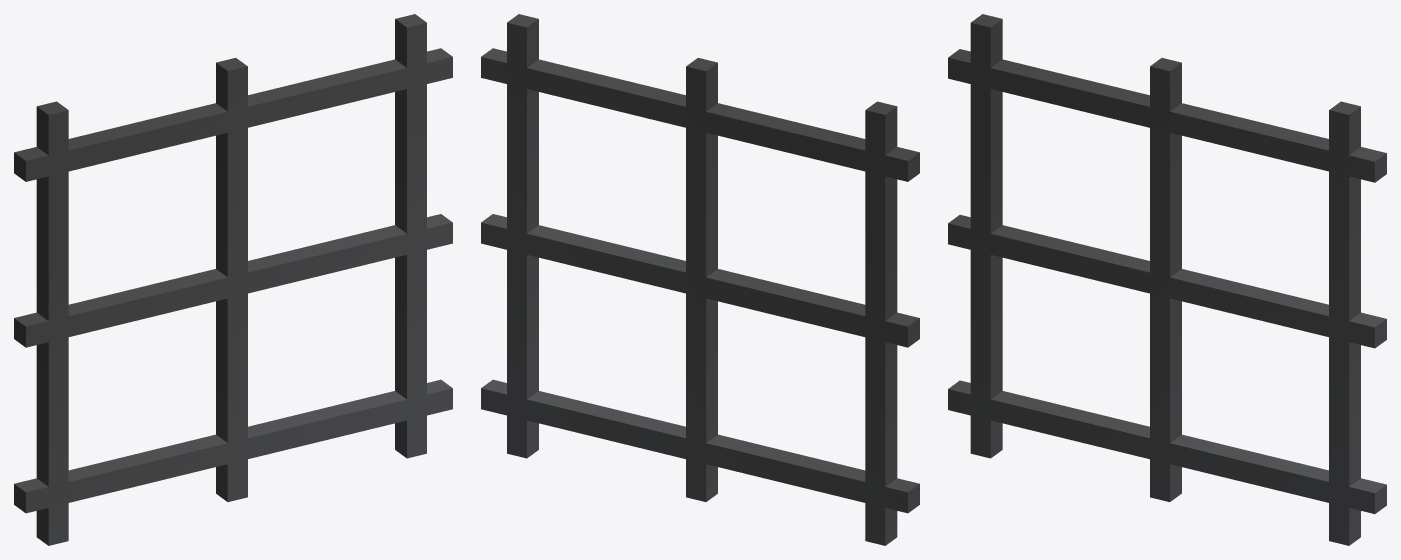
Rendered from POL0110022.fbx.
3 renders of one model, left to right at view 1: azimuth 30°, elevation 25°; view 2: azimuth 150°, elevation 25°; view 3: azimuth 330°, elevation 25°, orthographic.
Parts seen in each view (by area): view 1: smPOL0110022; view 2: smPOL0110022; view 3: smPOL0110022.
Part boxes in pixels (<box>): smPOL0110022: <box>14,14,452,545</box>; smPOL0110022: <box>481,14,919,545</box>; smPOL0110022: <box>948,14,1386,545</box>.
Size of the model in its own units: 147 by 141 by 7.06.
Materials: 1 (1 with a texture image).
